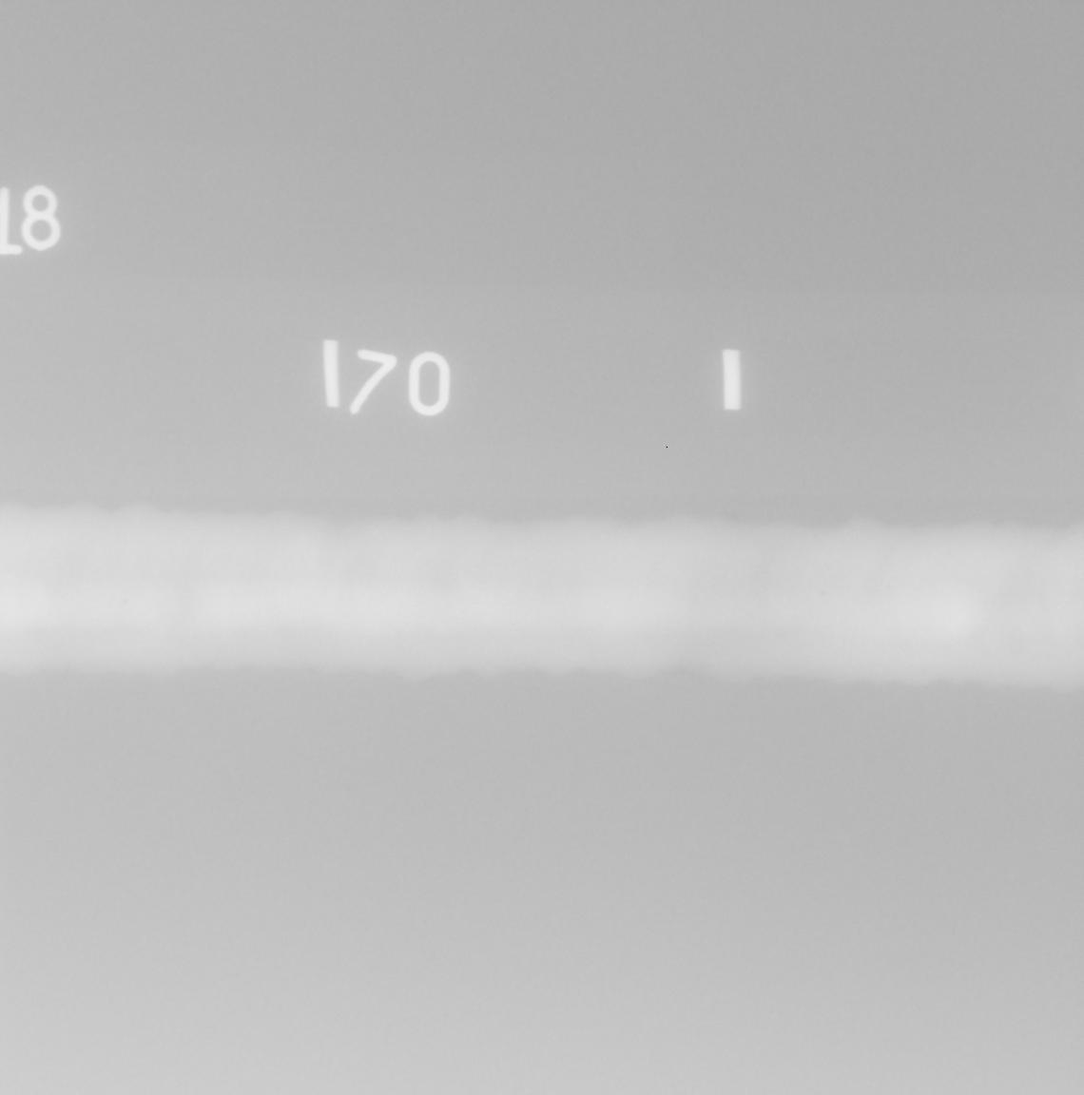Pore/Porosity: (121, 597, 128, 604), (820, 590, 826, 596)
